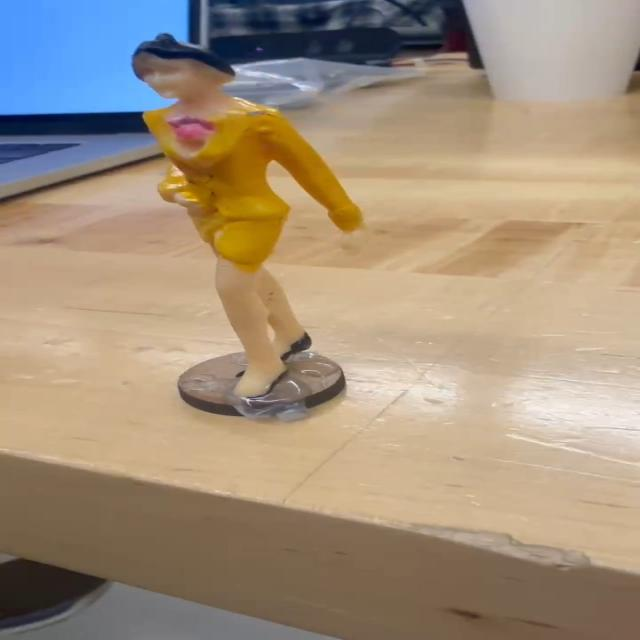Authorized: (111, 27, 398, 407)
